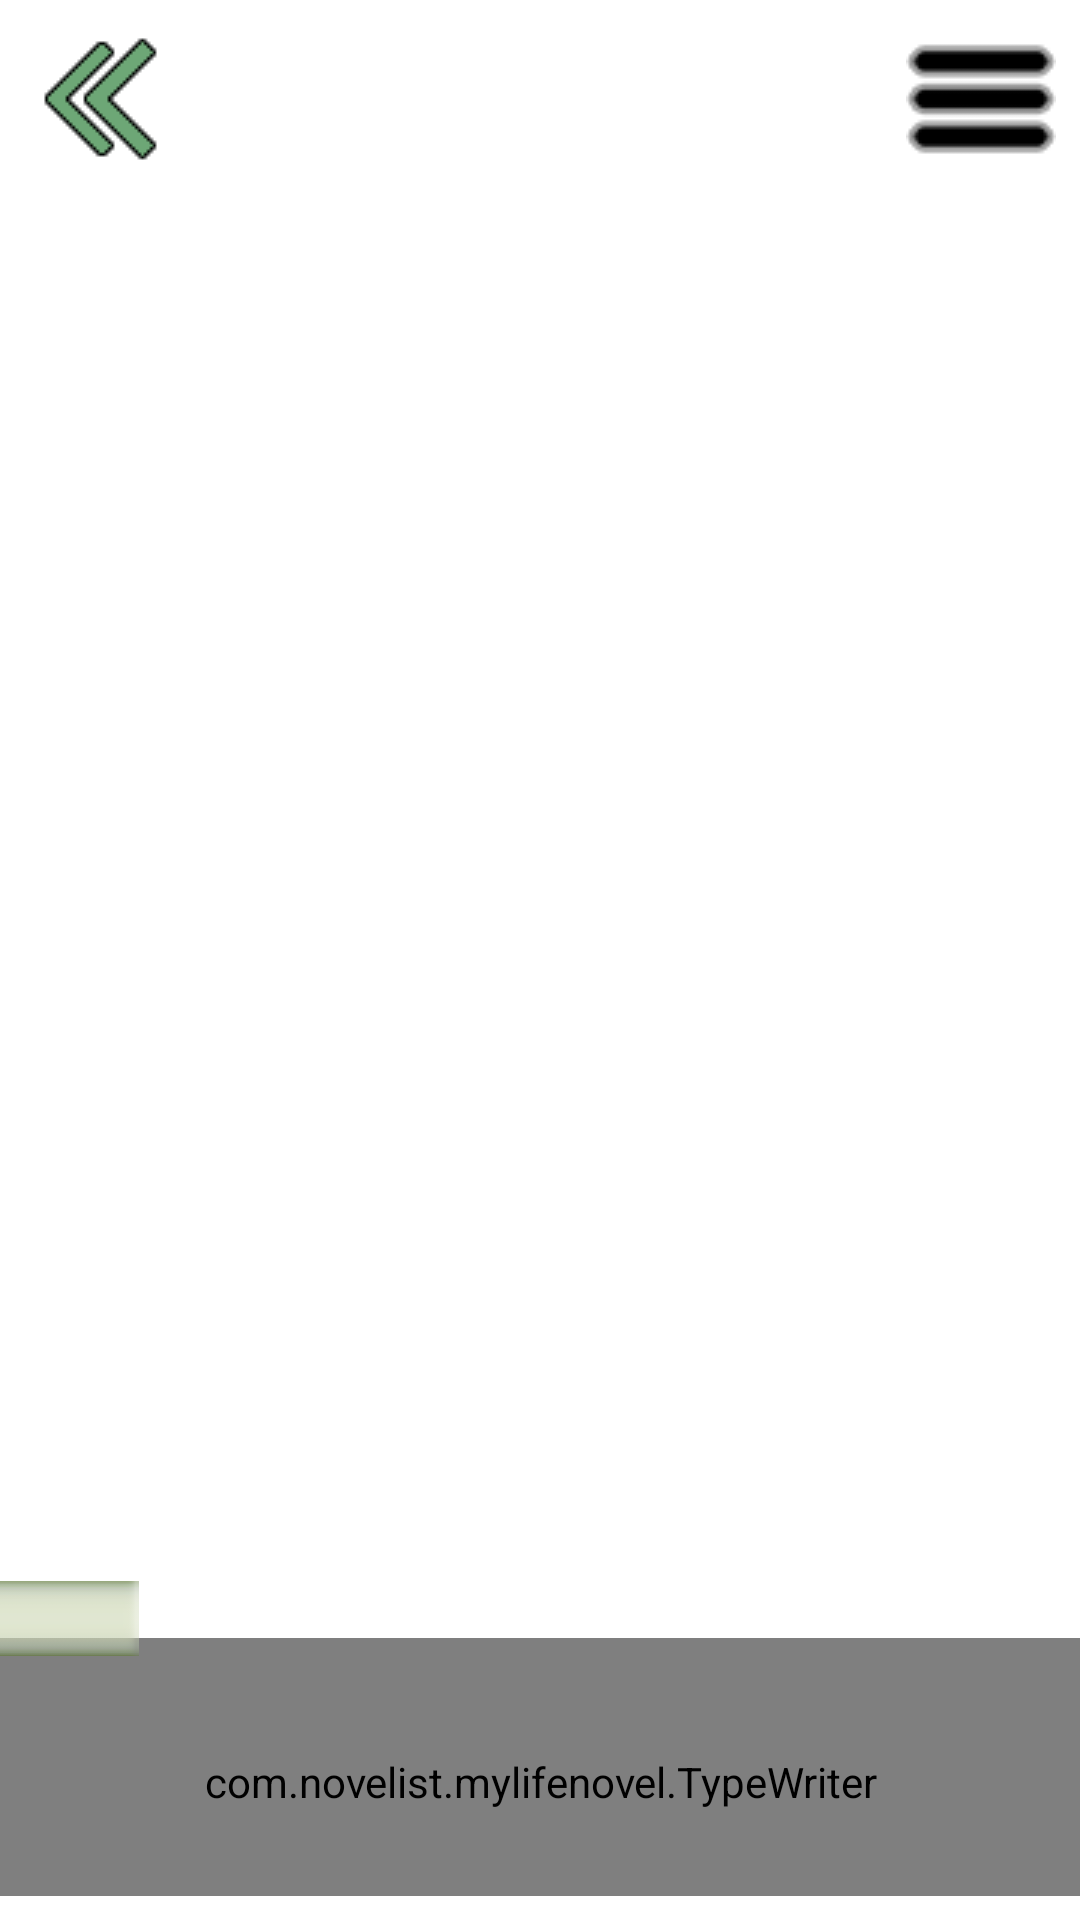

Icon bounding boxes for this 1080×1920 phone screenshot, format (left=x1, top=y1, right=x2, bottom=y2):
go back shot: (left=44, top=38, right=157, bottom=160)
menu: (left=906, top=44, right=1056, bottom=154)
